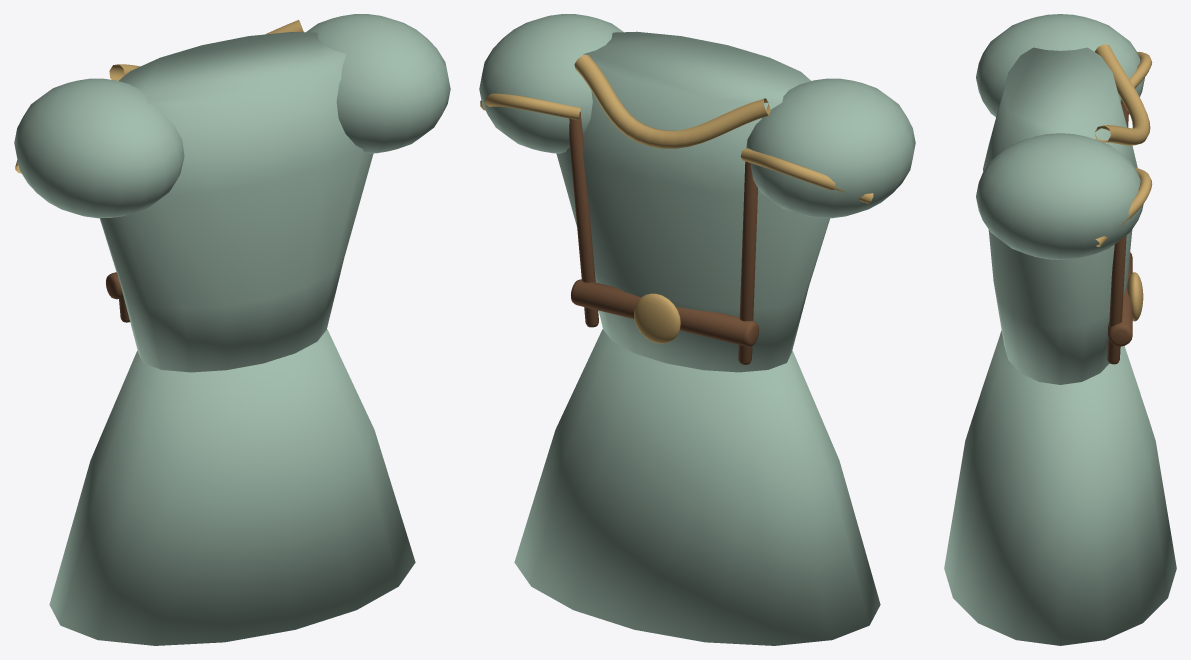
The model's file is verdant_robe.glb.
3 renders of one model, left to right at view 1: azimuth 30°, elevation 25°; view 2: azimuth 150°, elevation 25°; view 3: azimuth 270°, elevation 25°, orthographic. The views are drawn at different scales.
Parts seen in each view (by area): view 1: Woven flowing skirt, Shaped breastplate, Layered pauldron, Layered pauldron.001; view 2: Woven flowing skirt, Shaped breastplate, Layered pauldron, Layered pauldron.001, Neckline, Waist belt, Leather fastening.001, Leather fastening, Sunburst clasp, Pauldron trim, Pauldron trim.001; view 3: Woven flowing skirt, Shaped breastplate, Layered pauldron.001, Layered pauldron, Neckline, Leather fastening.001, Waist belt, Pauldron trim.001, Sunburst clasp, Pauldron trim.
Boxes of the visible parts, left/top/right/bottom form: Woven flowing skirt: left=49, top=329, right=415, bottom=645; Shaped breastplate: left=100, top=32, right=373, bottom=372; Layered pauldron: left=14, top=78, right=184, bottom=218; Layered pauldron.001: left=306, top=14, right=450, bottom=153; Woven flowing skirt: left=514, top=329, right=880, bottom=645; Shaped breastplate: left=556, top=31, right=829, bottom=372; Layered pauldron: left=746, top=78, right=915, bottom=218; Layered pauldron.001: left=479, top=14, right=623, bottom=153; Neckline: left=574, top=54, right=770, bottom=148; Waist belt: left=571, top=279, right=759, bottom=346; Leather fastening.001: left=569, top=112, right=598, bottom=327; Leather fastening: left=738, top=161, right=757, bottom=364; Sunburst clasp: left=634, top=293, right=680, bottom=343; Pauldron trim: left=740, top=148, right=873, bottom=203; Pauldron trim.001: left=480, top=93, right=581, bottom=120; Woven flowing skirt: left=944, top=330, right=1176, bottom=645; Shaped breastplate: left=983, top=47, right=1137, bottom=384; Layered pauldron.001: left=976, top=133, right=1143, bottom=259; Layered pauldron: left=976, top=14, right=1144, bottom=116; Neckline: left=1095, top=44, right=1150, bottom=145; Leather fastening.001: left=1107, top=235, right=1126, bottom=364; Waist belt: left=1108, top=252, right=1132, bottom=346; Pauldron trim.001: left=1095, top=167, right=1152, bottom=247; Sunburst clasp: left=1126, top=272, right=1143, bottom=321; Pauldron trim: left=1129, top=52, right=1152, bottom=88.
Size of the model in its own units: 1.24 by 1.52 by 0.66.
